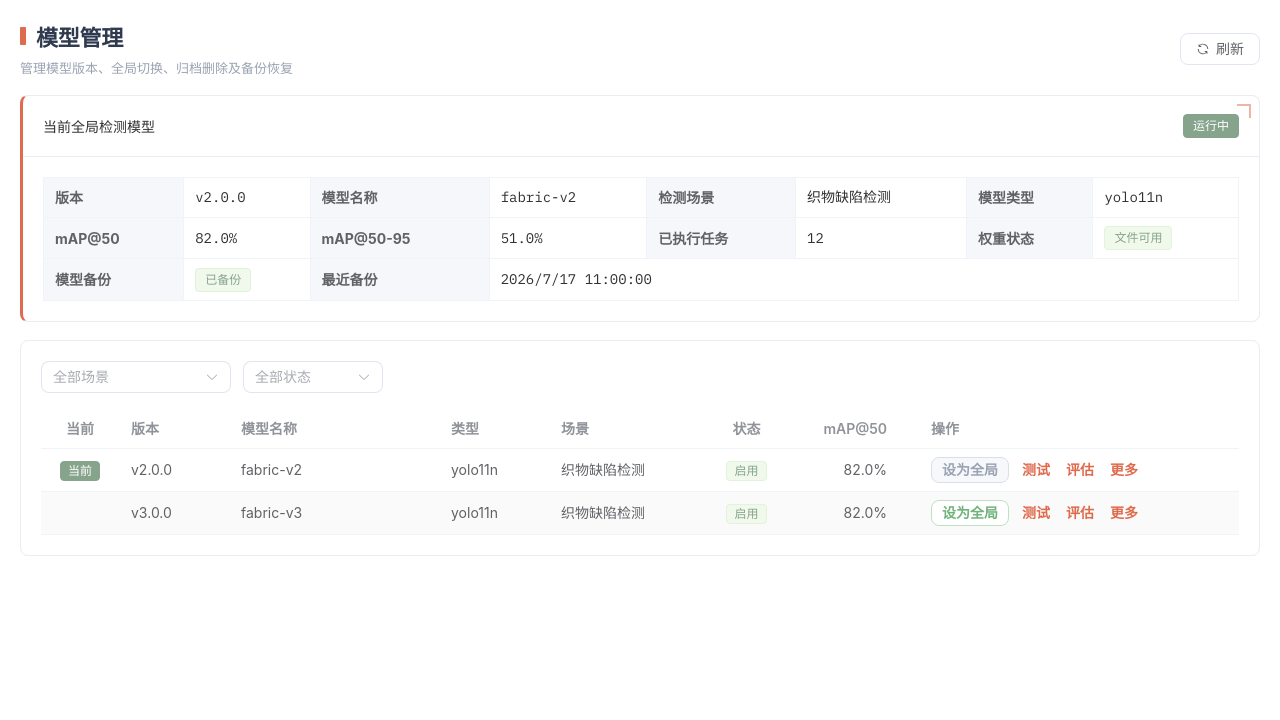
Test case: ModelManagementPage › 从模型版本行启动评估并展示结果
Click the button "评估" in the row of "v3.0.0". click: (1080, 513)
box: top-left (1063, 503), bottom-right (1097, 523)
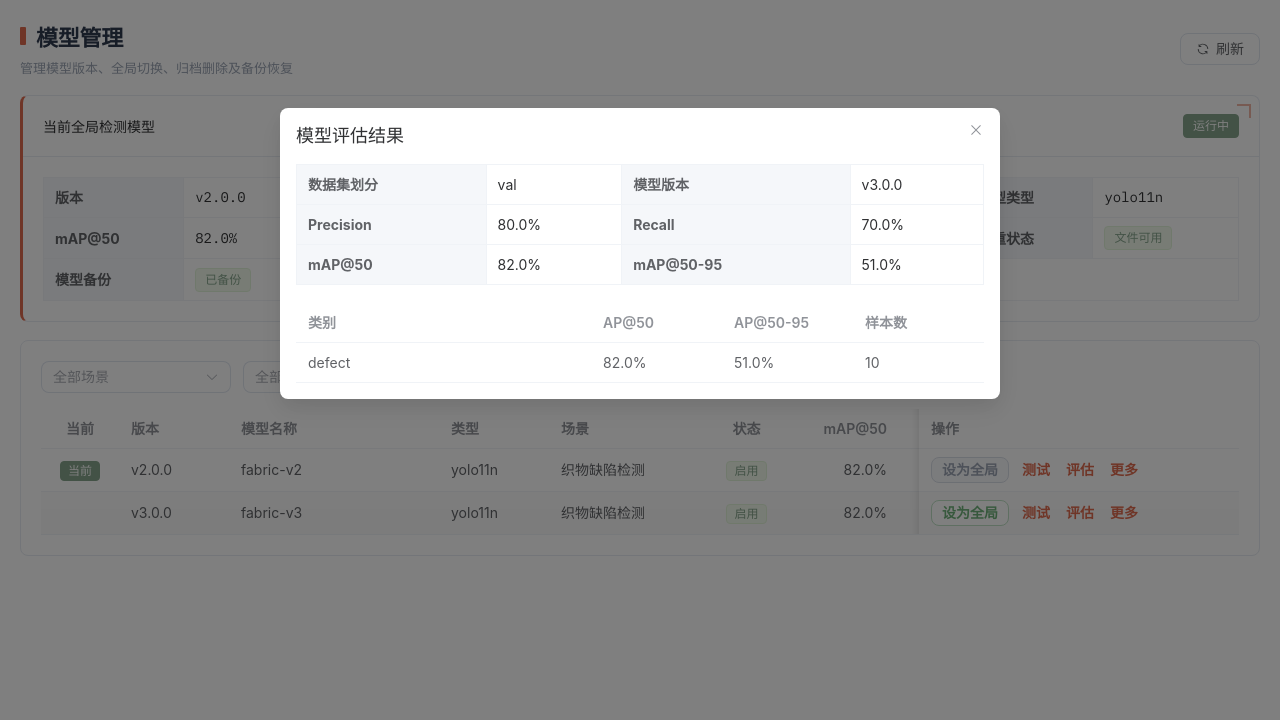
Check: the text "82.0%" is shown, box top-left (184, 218), bottom-right (310, 259)
Check: the text "defect" is shown, box top-left (308, 354), bottom-right (350, 371)
